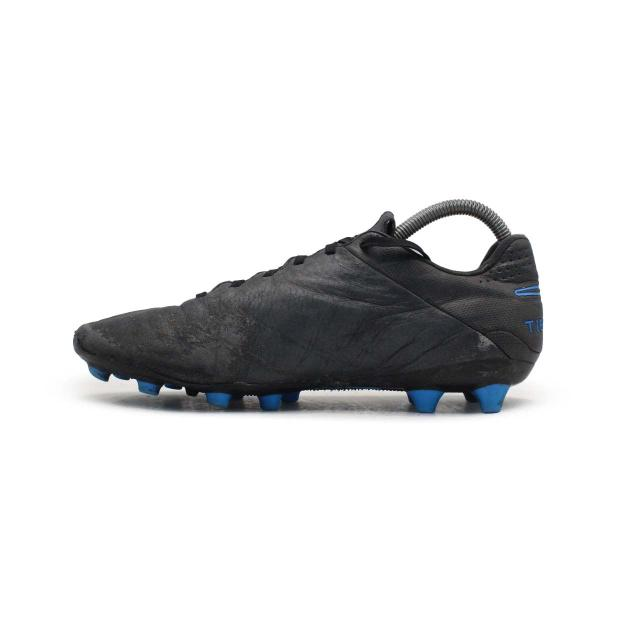heel: (478, 235, 545, 358)
midsole: (71, 326, 535, 419)
uppersole: (87, 210, 501, 380)
